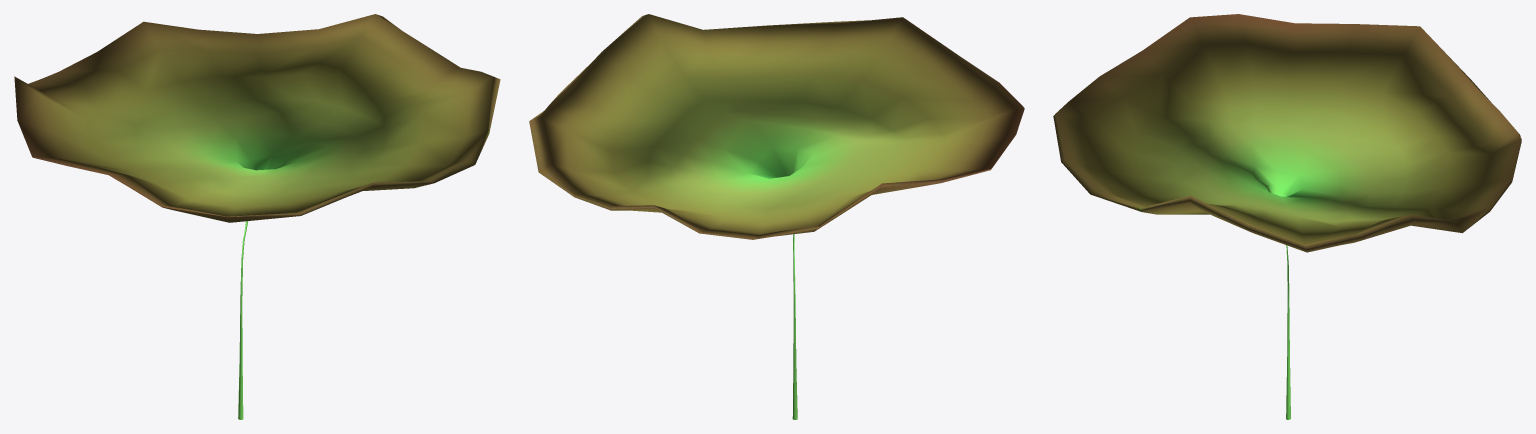
The model's file is Big_Leave_New 1.fbx.
3 views of the same model, side by side, from view 1: azimuth 30°, elevation 25°; view 2: azimuth 150°, elevation 25°; view 3: azimuth 270°, elevation 25° (orthographic). The views are drawn at different scales.
Parts seen in each view (by area): view 1: Big_Leave_New; view 2: Big_Leave_New; view 3: Big_Leave_New.
Part boxes in pixels (left/top/right/bottom): Big_Leave_New: left=14, top=14, right=500, bottom=419; Big_Leave_New: left=529, top=14, right=1024, bottom=419; Big_Leave_New: left=1053, top=14, right=1521, bottom=419.
Bounding box in the file's own units: 959 × 693 × 923.
